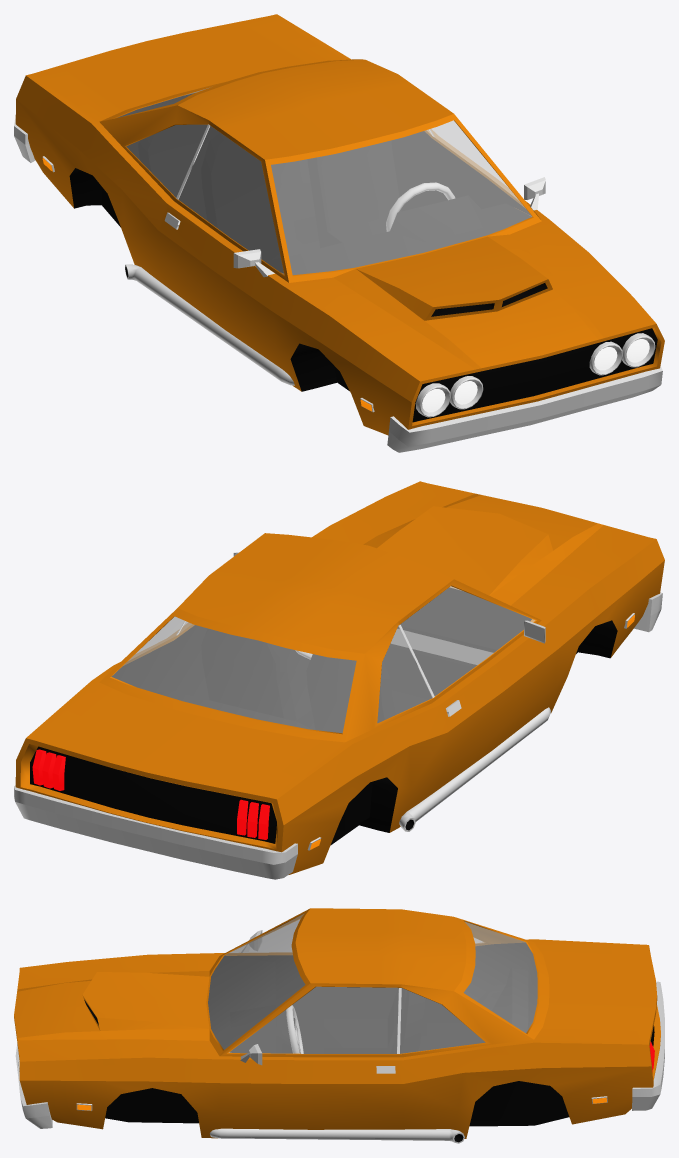
Rendered from car_frame_orange.glb.
3 renders of one model, top to bottom at view 1: azimuth 30°, elevation 25°; view 2: azimuth 150°, elevation 25°; view 3: azimuth 270°, elevation 25°, orthographic. The views are drawn at different scales.
Parts seen in each view (by area): view 1: Cube; view 2: Cube; view 3: Cube.
Boxes of the visible parts, box(x1,y1,x2,y2) form: Cube: box(14, 14, 664, 452); Cube: box(14, 481, 664, 879); Cube: box(14, 908, 664, 1143).
Bounding box in the file's own units: 5.46 × 3.02 × 12.16.
